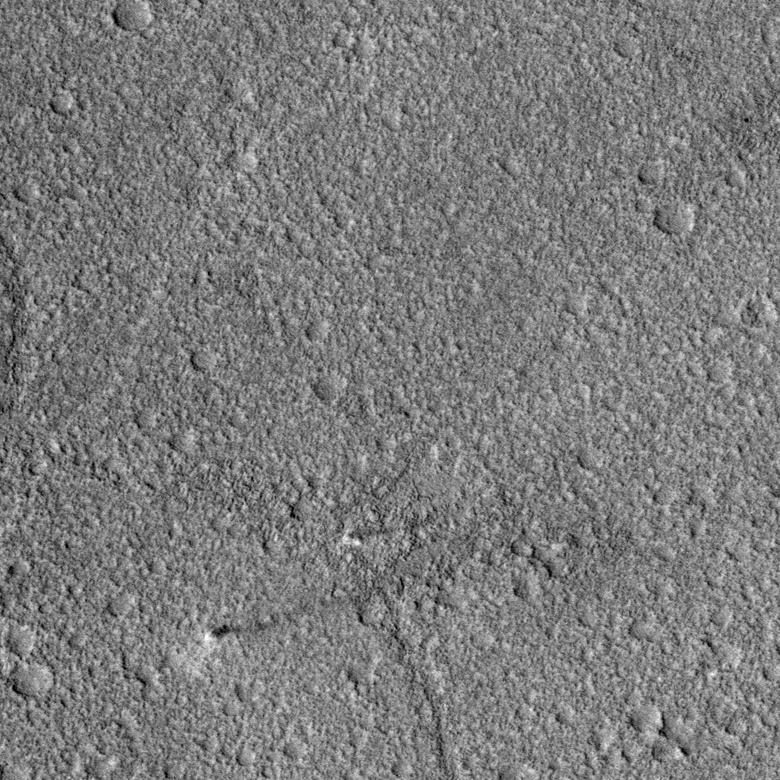dust_devil: (340, 512, 436, 547), (201, 618, 273, 643)
